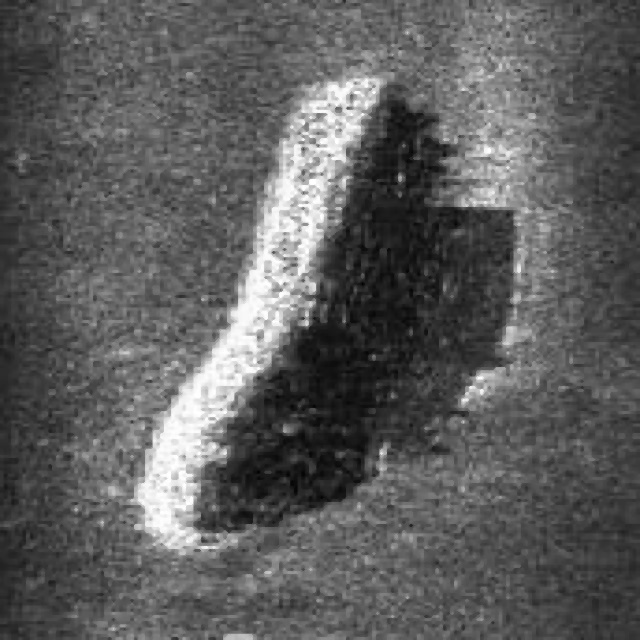Ship: (123, 60, 519, 556)
